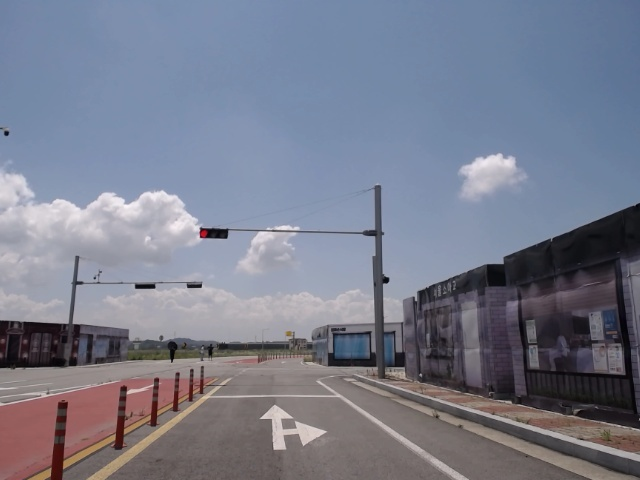red_3: (199, 226, 229, 240)
